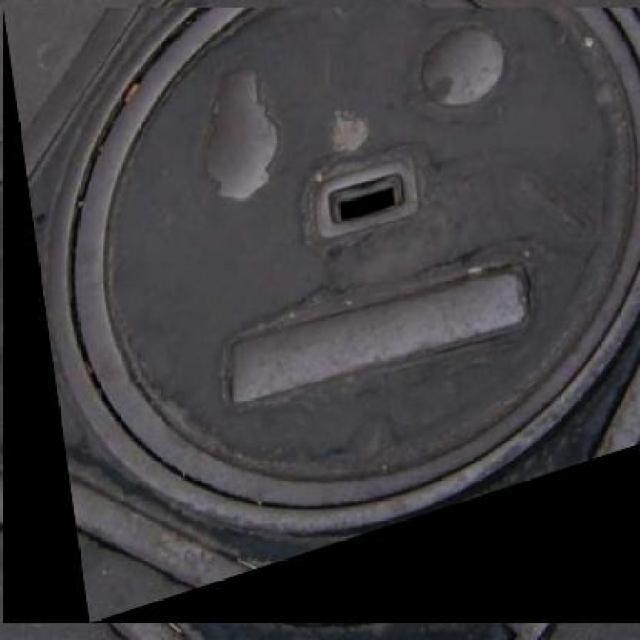Manhole: (3, 8, 640, 624)
